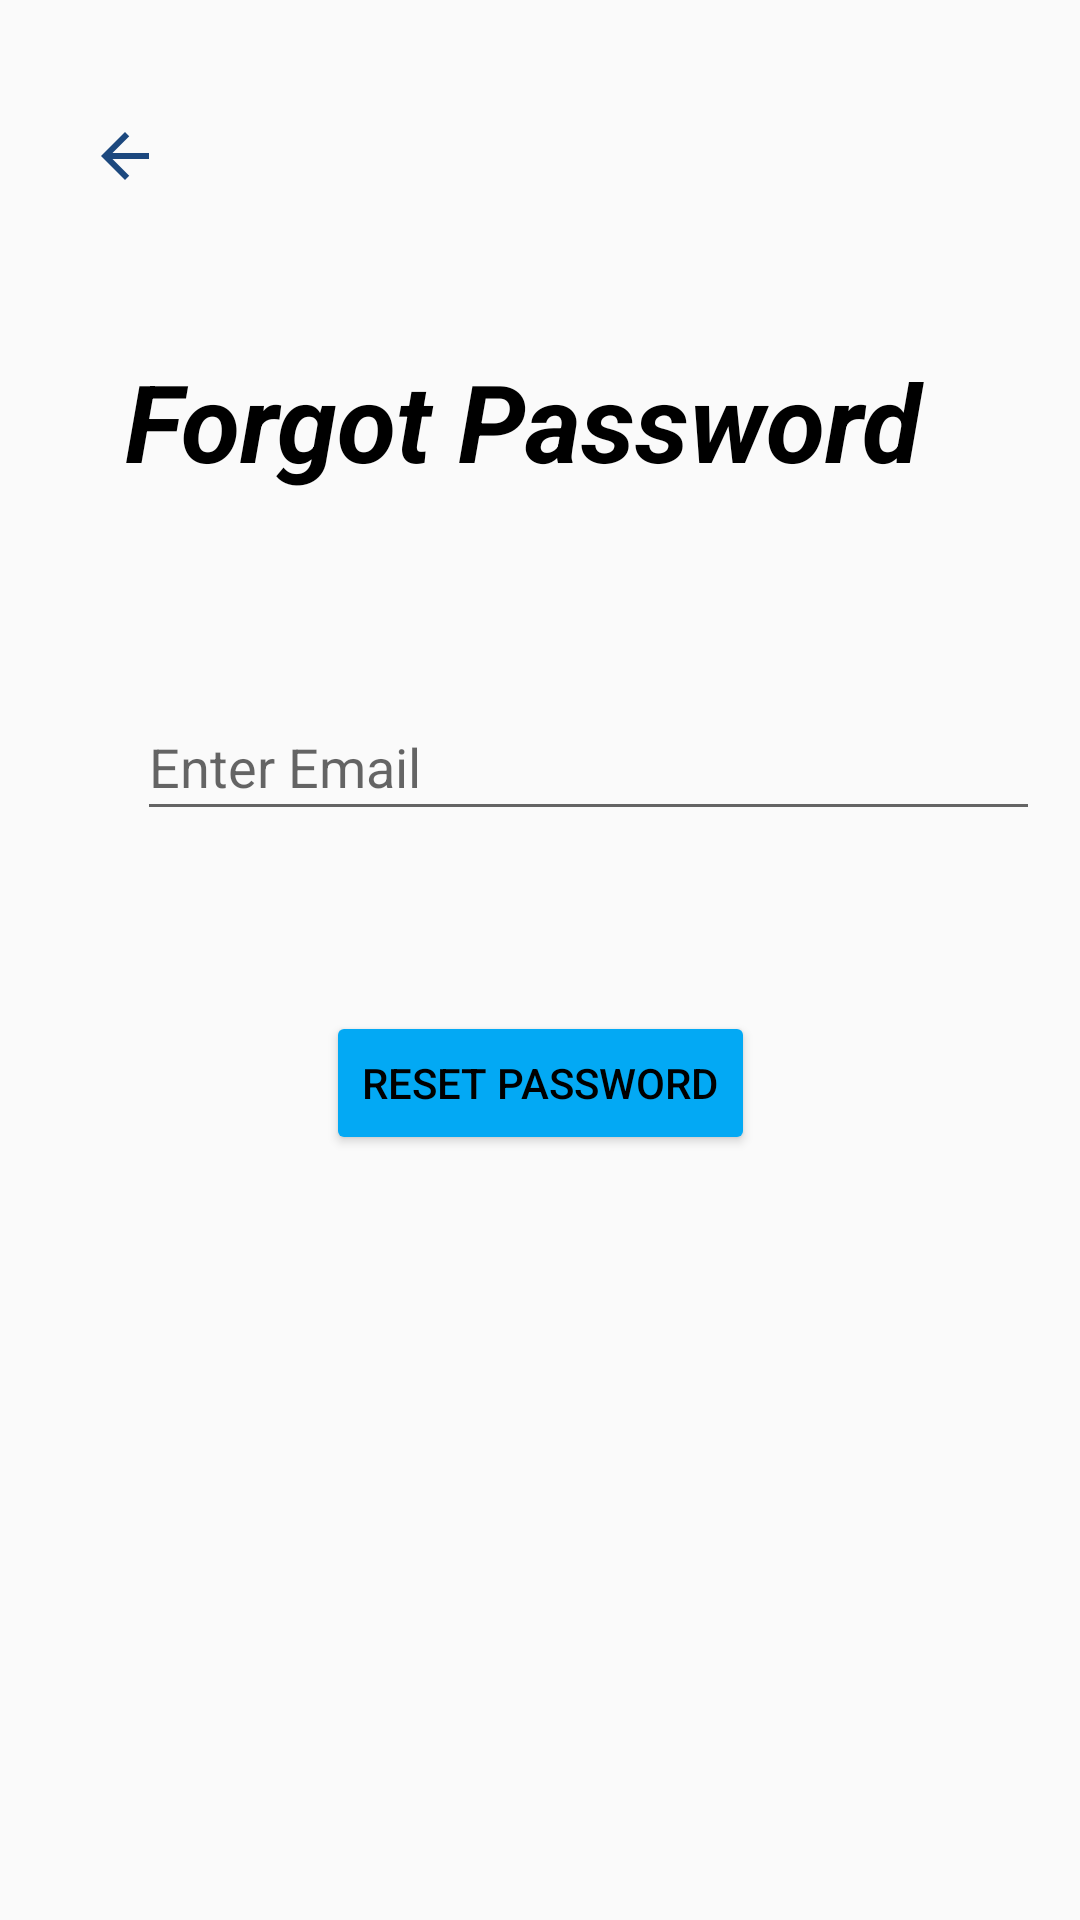

Screen size 1080 x 1920. Icon name, then its center in pixels as point (x, y):
arrow back: point (125, 156)
